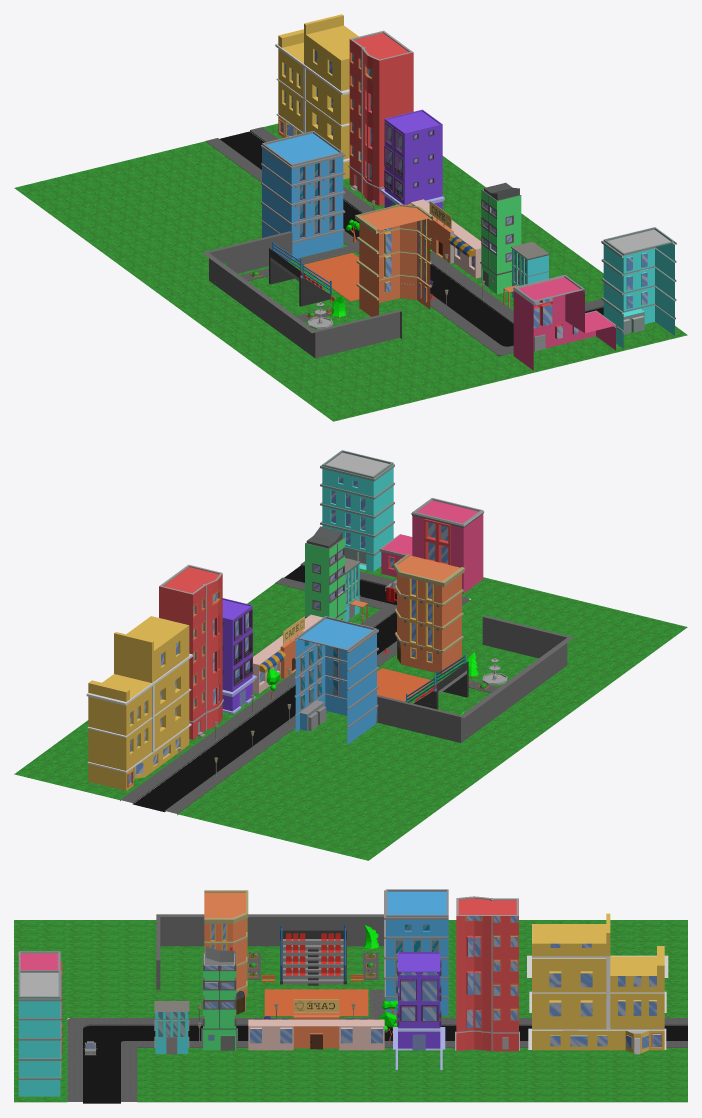
File: Cenario_final.fbx
3 views of the same model, one above another, from view 1: azimuth 30°, elevation 25°; view 2: azimuth 150°, elevation 25°; view 3: azimuth 270°, elevation 25° (orthographic). The views are drawn at different scales.
Visible parts, largest first — view 1: Plane.913, Predio2, Predio7, Predio6, Cube.125, Predio1, Predio9, Predio8, Predio5, Cube.104, Predio4, Plane.612 (+4 smaller); view 2: Plane.913, Predio7, Predio2, Cube.125, Predio1, Predio6, Predio9, Plane.612, Predio8, Cube.104, Predio4, Predio5 (+4 smaller); view 3: Plane.913, Predio7, Predio6, Predio9, Predio2, Cafe, Cube.125, Predio5, Plane.612, Cube.104, Cube.137, Predio4 (+6 smaller).
Boxes of the visible parts, x1,y1,x2,y2 form: Plane.913: (14, 123, 687, 421); Predio2: (261, 131, 345, 259); Predio7: (275, 14, 358, 179); Predio6: (348, 30, 413, 205); Cube.125: (202, 231, 401, 358); Predio1: (355, 204, 432, 316); Predio9: (601, 227, 676, 348); Predio8: (513, 275, 616, 370); Predio5: (380, 109, 444, 209); Cube.104: (205, 127, 603, 356); Predio4: (480, 182, 521, 294); Plane.612: (220, 131, 603, 346); Plane.913: (14, 566, 687, 860); Predio7: (86, 616, 192, 790); Predio2: (294, 616, 378, 744); Cube.125: (376, 615, 574, 742); Predio1: (386, 554, 464, 673); Predio6: (159, 564, 223, 739); Predio9: (320, 450, 394, 571); Plane.612: (133, 565, 396, 811); Predio8: (379, 498, 484, 593); Cube.104: (120, 561, 469, 815); Predio4: (305, 526, 346, 620); Predio5: (222, 598, 256, 714); Plane.913: (14, 920, 687, 1102); Predio7: (527, 913, 668, 1054); Predio6: (455, 896, 519, 1051); Predio9: (18, 970, 61, 1096); Predio2: (384, 889, 448, 1015); Cafe: (248, 999, 384, 1050); Cube.125: (156, 914, 383, 989); Predio5: (393, 952, 445, 1069); Plane.612: (83, 1026, 687, 1103); Cube.104: (67, 1018, 687, 1101); Cube.137: (280, 925, 346, 985); Predio4: (201, 946, 237, 1050).
Size of the model in its own units: 5598 by 2223 by 8734.
